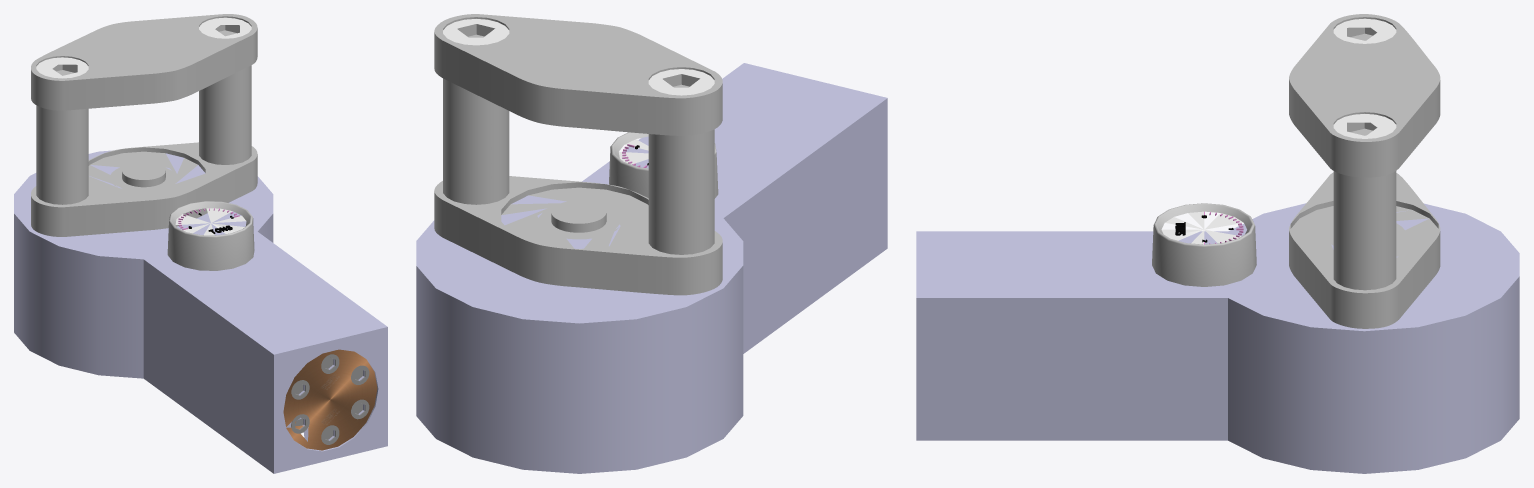
The model's file is press_body.gltf.
3 renders of one model, left to right at view 1: azimuth 30°, elevation 25°; view 2: azimuth 150°, elevation 25°; view 3: azimuth 270°, elevation 25°, orthographic. The views are drawn at different scales.
Parts seen in each view (by area): view 1: press_body_01, press_body, press_body_02, press_body_11, press_body_37, press_body_04, press_body_03; view 2: press_body_01, press_body, press_body_11, press_body_04, press_body_03; view 3: press_body_01, press_body, press_body_11, press_body_37, press_body_04, press_body_03.
Boxes of the visible parts, left/top/right/bottom form: press_body_01: left=14, top=150, right=387, bottom=473; press_body: left=31, top=14, right=257, bottom=236; press_body_02: left=283, top=349, right=377, bottom=450; press_body_11: left=167, top=201, right=254, bottom=270; press_body_37: left=175, top=208, right=245, bottom=235; press_body_04: left=36, top=57, right=88, bottom=78; press_body_03: left=199, top=17, right=251, bottom=38; press_body_01: left=416, top=63, right=887, bottom=473; press_body: left=434, top=14, right=722, bottom=295; press_body_11: left=609, top=132, right=718, bottom=198; press_body_04: left=648, top=69, right=714, bottom=95; press_body_03: left=443, top=19, right=509, bottom=45; press_body_01: left=916, top=203, right=1519, bottom=473; press_body: left=1289, top=14, right=1440, bottom=328; press_body_11: left=1152, top=203, right=1256, bottom=286; press_body_37: left=1162, top=211, right=1243, bottom=244; press_body_04: left=1333, top=18, right=1396, bottom=43; press_body_03: left=1333, top=114, right=1396, bottom=138.
Size of the model in its own units: 66.14 by 76.38 by 127.
8 materials, 1 textured.
